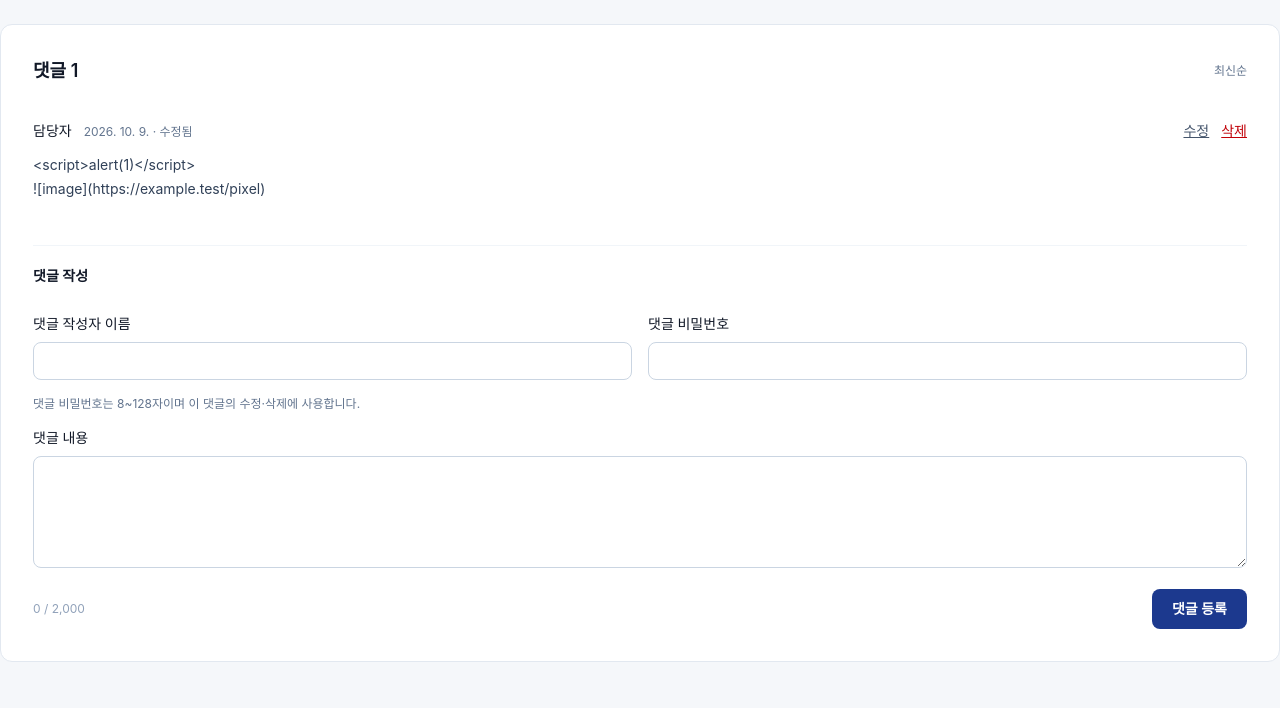
Test: board comment workflows › lets verified administrators moderate without a comment password and renders user text literally
Expected: the text "<script>alert" is shown, [33, 156, 265, 197]
What coordinates should you click on to do the following:
click the button with aria-label "담당자 댓글 삭제"
I would click on:
 (1234, 131)
Its box is [1221, 121, 1247, 141].
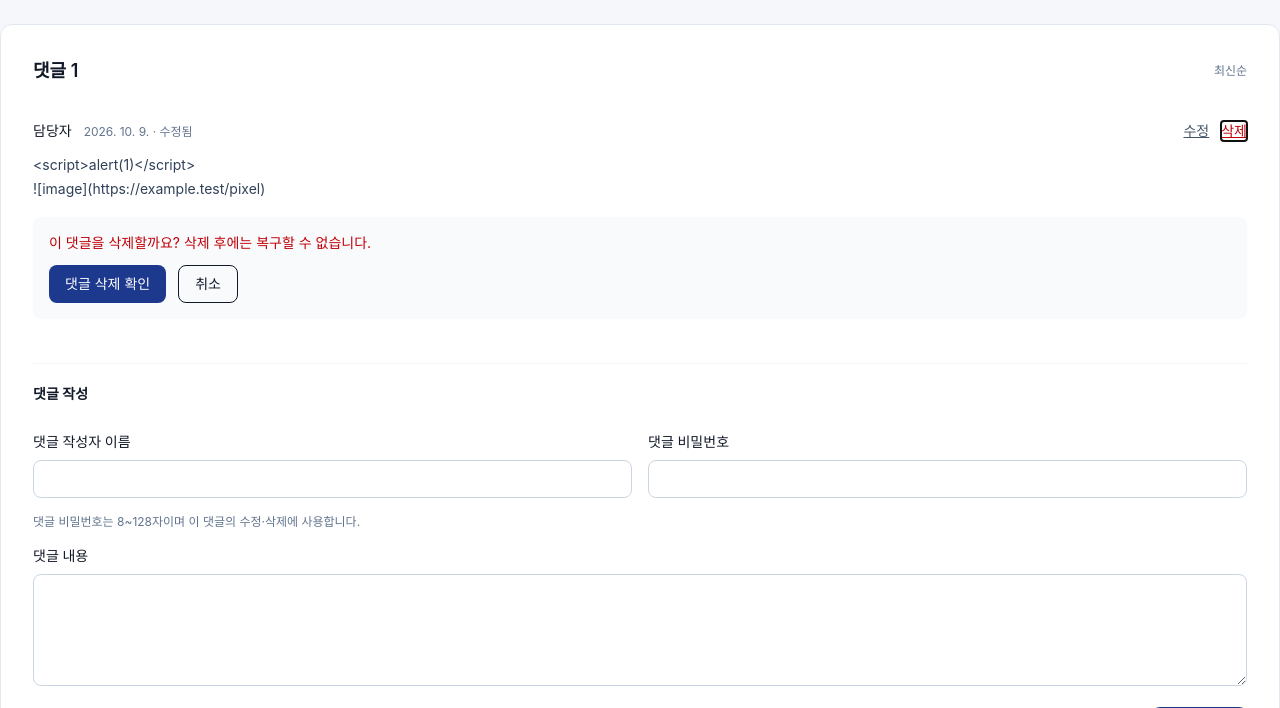
What coordinates should you click on to do the following:
click the button "댓글 삭제 확인"
I would click on:
 (108, 284)
Its box is [49, 265, 166, 303].
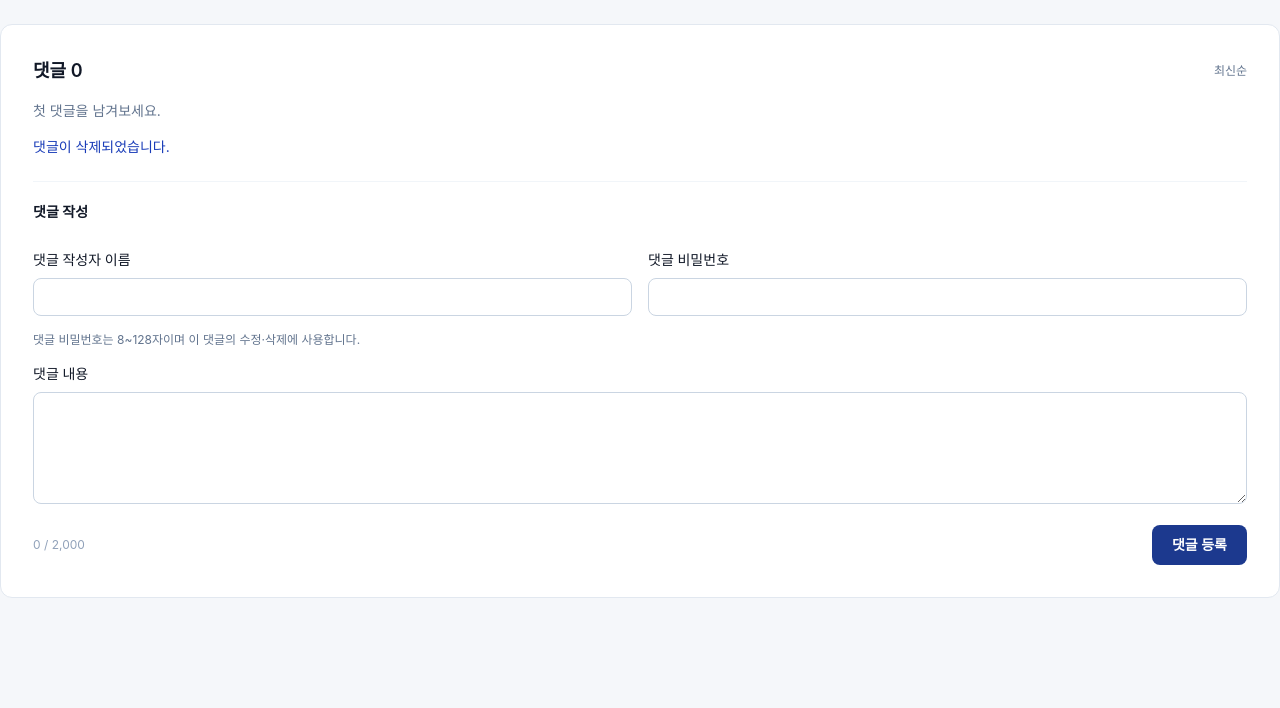
Result: the text "댓글이 삭제되었습니다." is shown at [33, 138, 170, 155]
